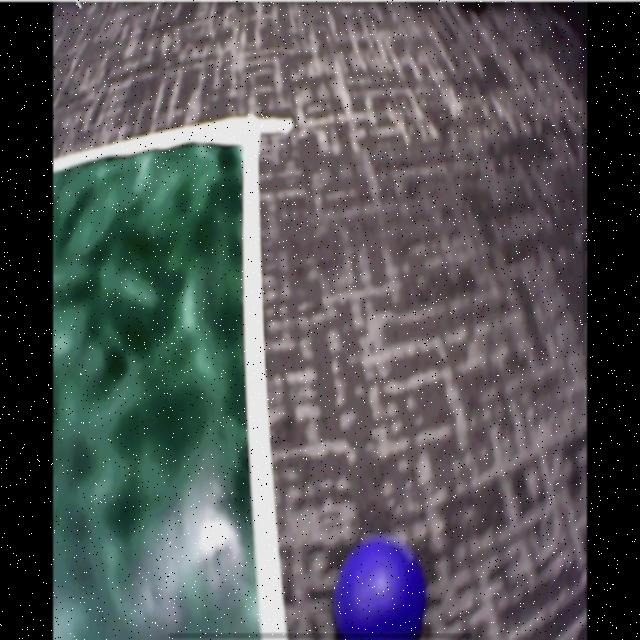ball: (336, 538, 425, 640)
